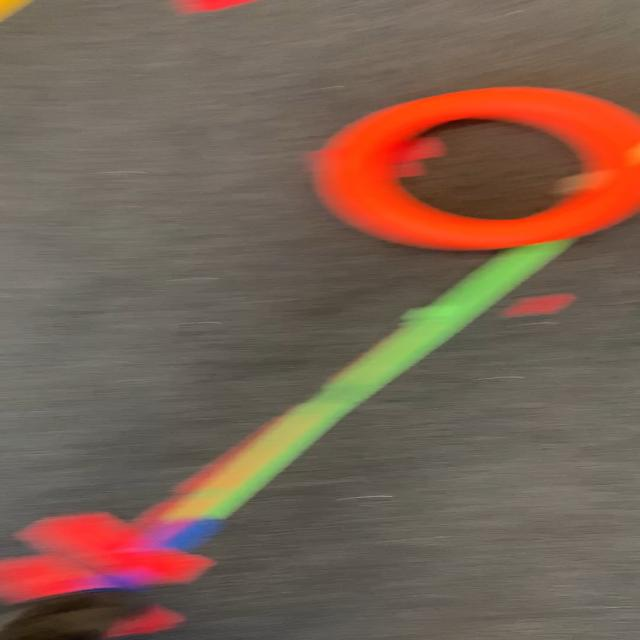notes: (308, 85, 640, 251)
